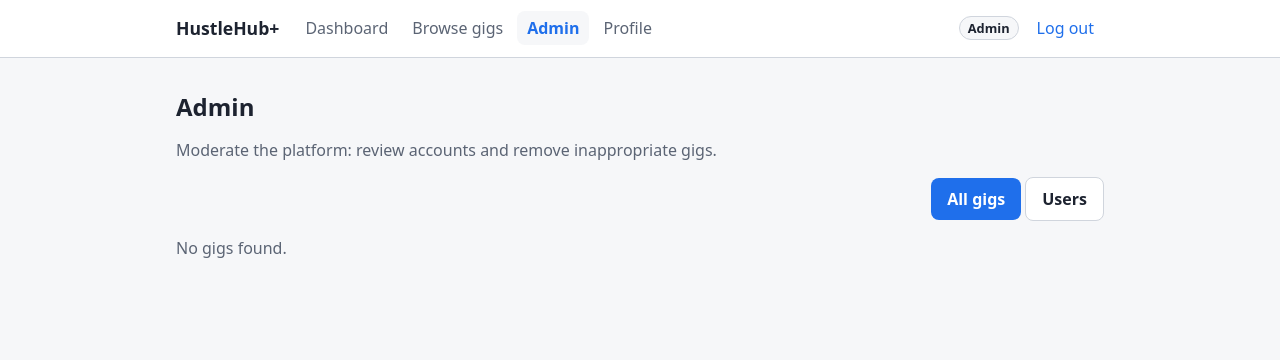
AdminPage › shows the users tab without any password data
This screenshot has width=1280, height=360.
Click the button "Users" at coordinates (1065, 199), box [1025,177,1104,221]
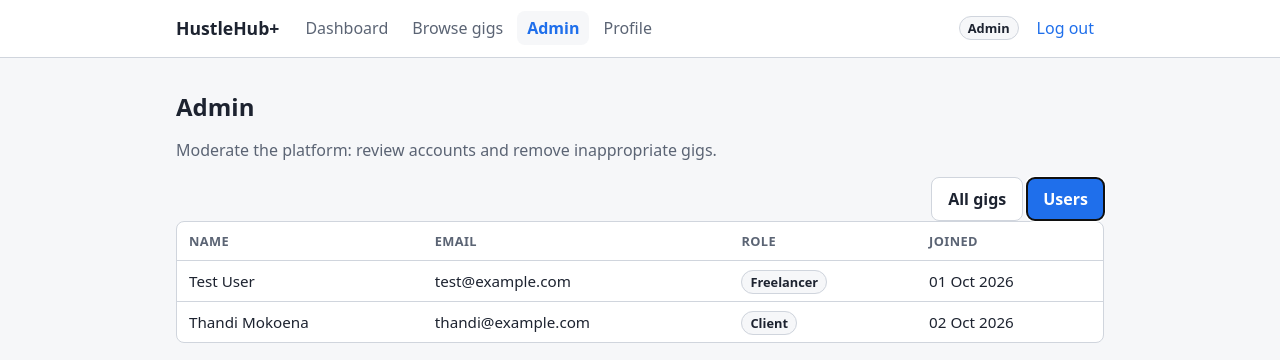
Expected: the text "thandi@example.com" is shown, [423,302,730,342]
Expected: the text "client" is shown, [742,311,797,335]
